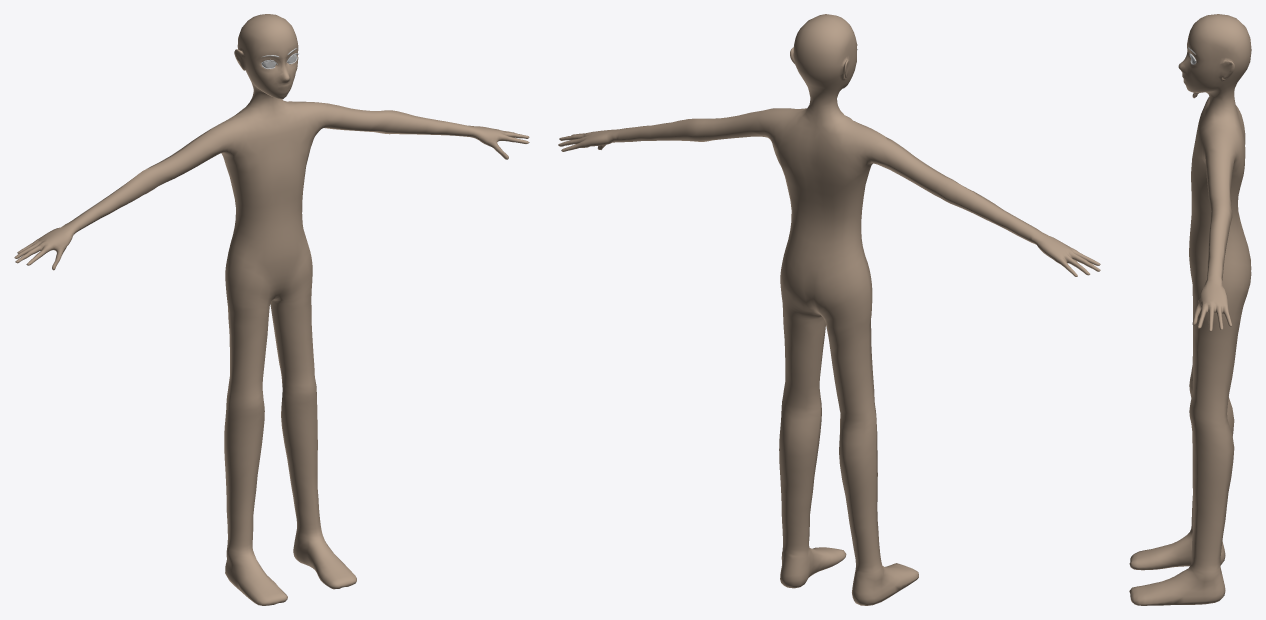
Rendered from Character_male_rigged.fbx.
3 views of the same model, side by side, from view 1: azimuth 30°, elevation 25°; view 2: azimuth 150°, elevation 25°; view 3: azimuth 270°, elevation 25° (orthographic). The views are drawn at different scales.
Parts seen in each view (by area): view 1: Male_LP_v2:Body; view 2: Male_LP_v2:Body; view 3: Male_LP_v2:Body.
Part boxes in pixels (x1,y1,x2,y2): Male_LP_v2:Body: [14, 14, 529, 605]; Male_LP_v2:Body: [558, 14, 1100, 605]; Male_LP_v2:Body: [1129, 14, 1251, 605].
Size of the model in its own units: 176 by 180 by 35.31.
